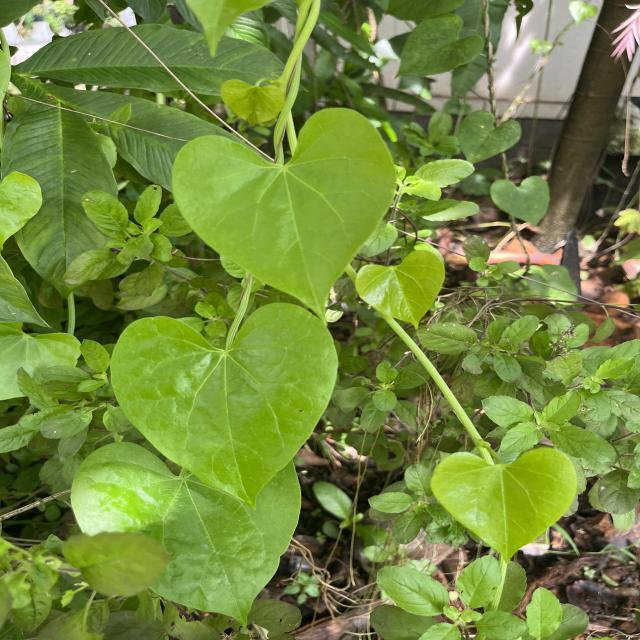Tinospora cordifolia: (170, 106, 399, 330), (107, 299, 340, 514), (68, 438, 304, 631), (428, 444, 582, 566)
